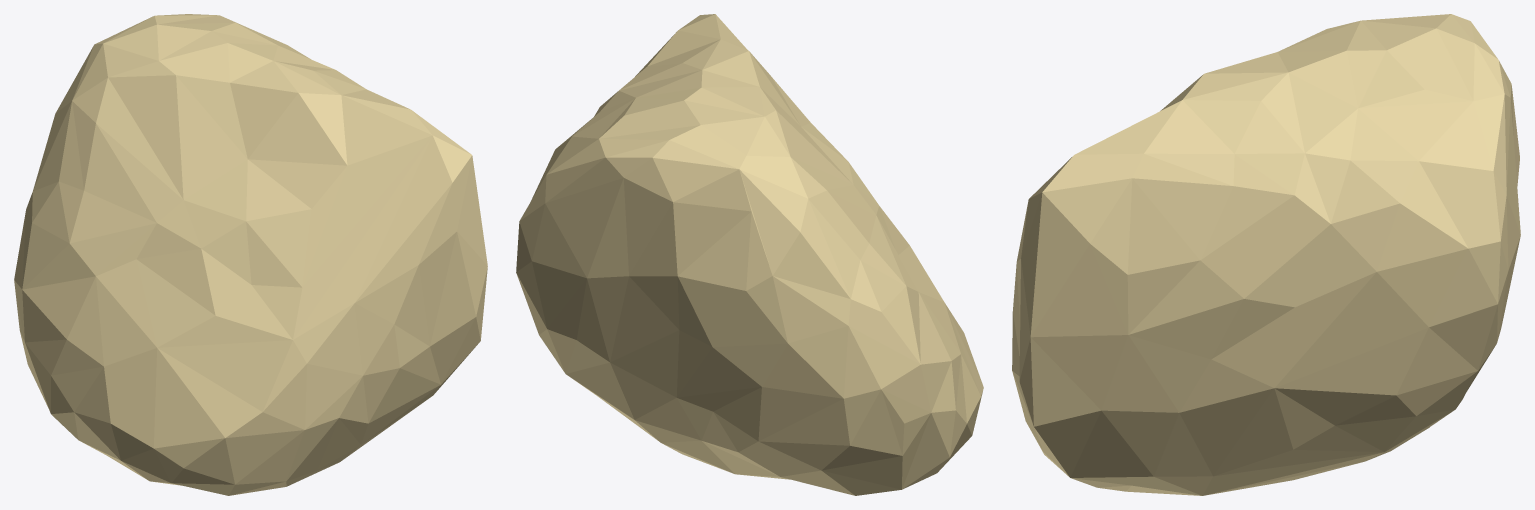
Rendered from Asteroid (84).fbx.
3 renders of one model, left to right at view 1: azimuth 30°, elevation 25°; view 2: azimuth 150°, elevation 25°; view 3: azimuth 270°, elevation 25°, orthographic. The views are drawn at different scales.
Visible parts, largest first — view 1: Asteroid216; view 2: Asteroid216; view 3: Asteroid216.
Boxes of the visible parts, x1,y1,x2,y2 form: Asteroid216: [14, 14, 487, 495]; Asteroid216: [516, 14, 983, 495]; Asteroid216: [1012, 14, 1520, 495].
Size of the model in its own units: 389 by 388 by 401.
